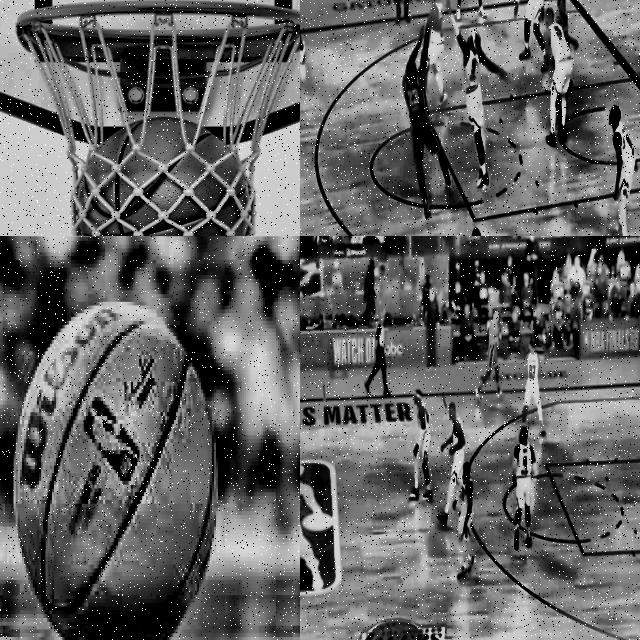Basketball: (16, 302, 218, 640), (79, 118, 250, 236)
